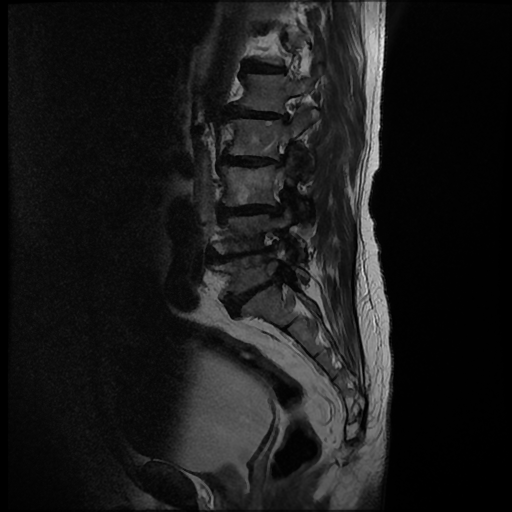RFS0: (272, 86, 305, 126)
